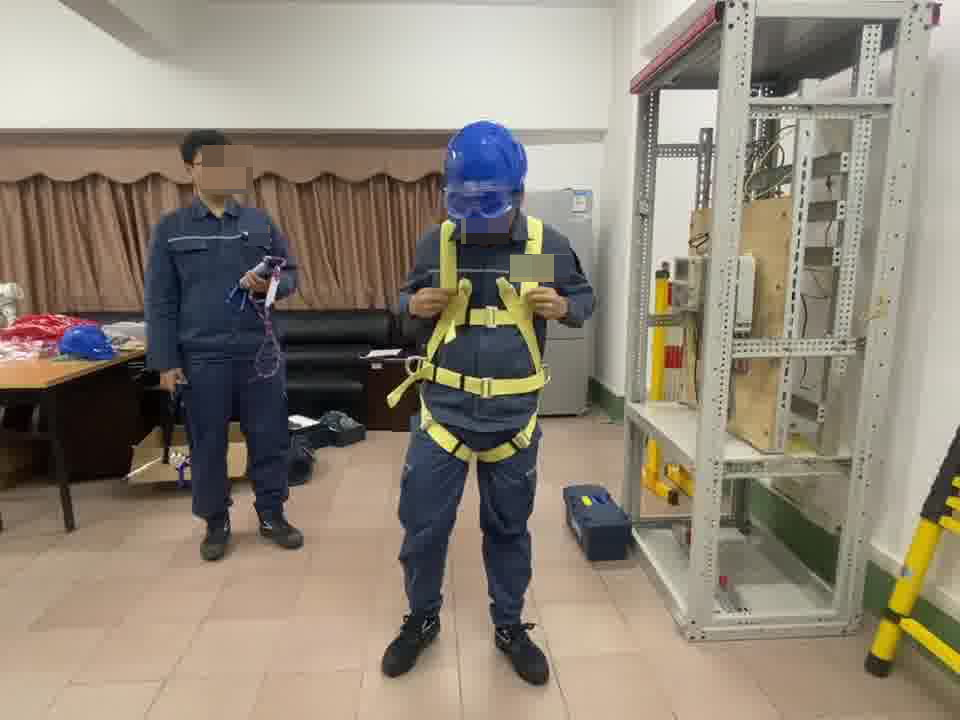downsuit: (397, 405, 547, 620), (178, 363, 291, 519)
halt: (442, 121, 533, 246)
hand: (407, 281, 458, 322), (523, 283, 567, 326), (158, 366, 187, 399), (239, 270, 271, 295)
person: (382, 116, 597, 687), (145, 128, 310, 562)
safebelt: (389, 219, 550, 466)
unhalt: (180, 130, 242, 204)
upsuit: (390, 208, 593, 406), (144, 202, 294, 375)
